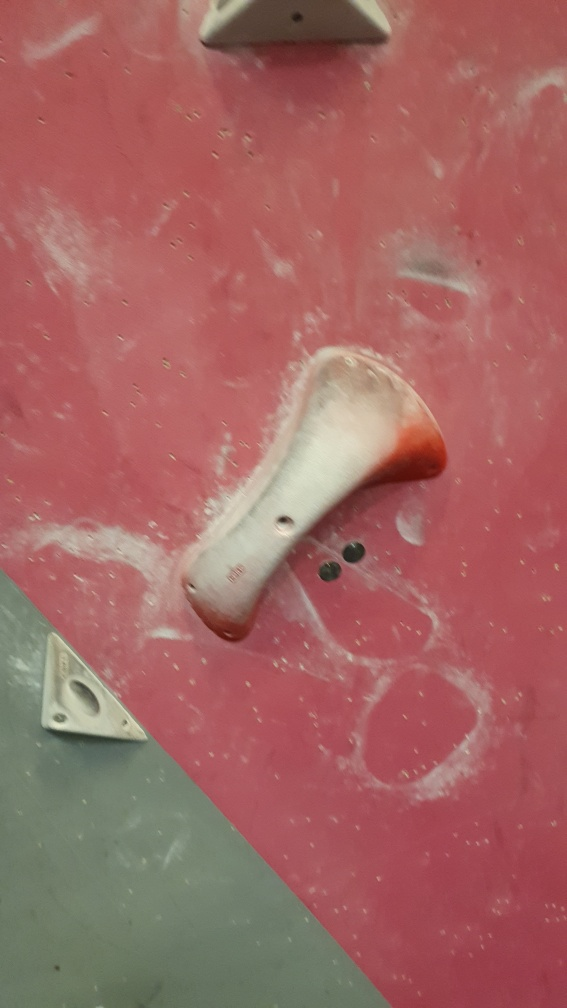Hand Start: (339, 539, 367, 564), (317, 557, 340, 582)
Pinch: (178, 343, 450, 644)
